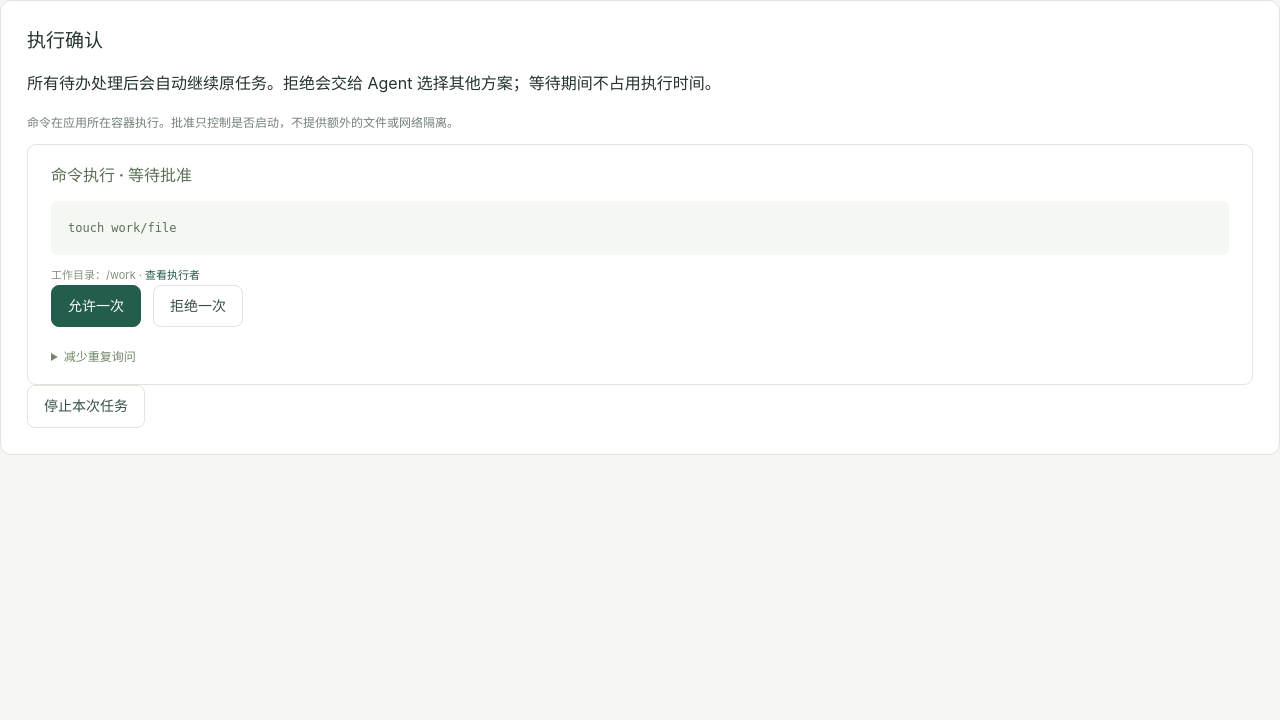
Test: shows scope and argv before saving a persistent rule, and blocks duplicate clicks while submitting
Click the heading "减少重复询问" at (100, 356), box 64,349 -> 136,364
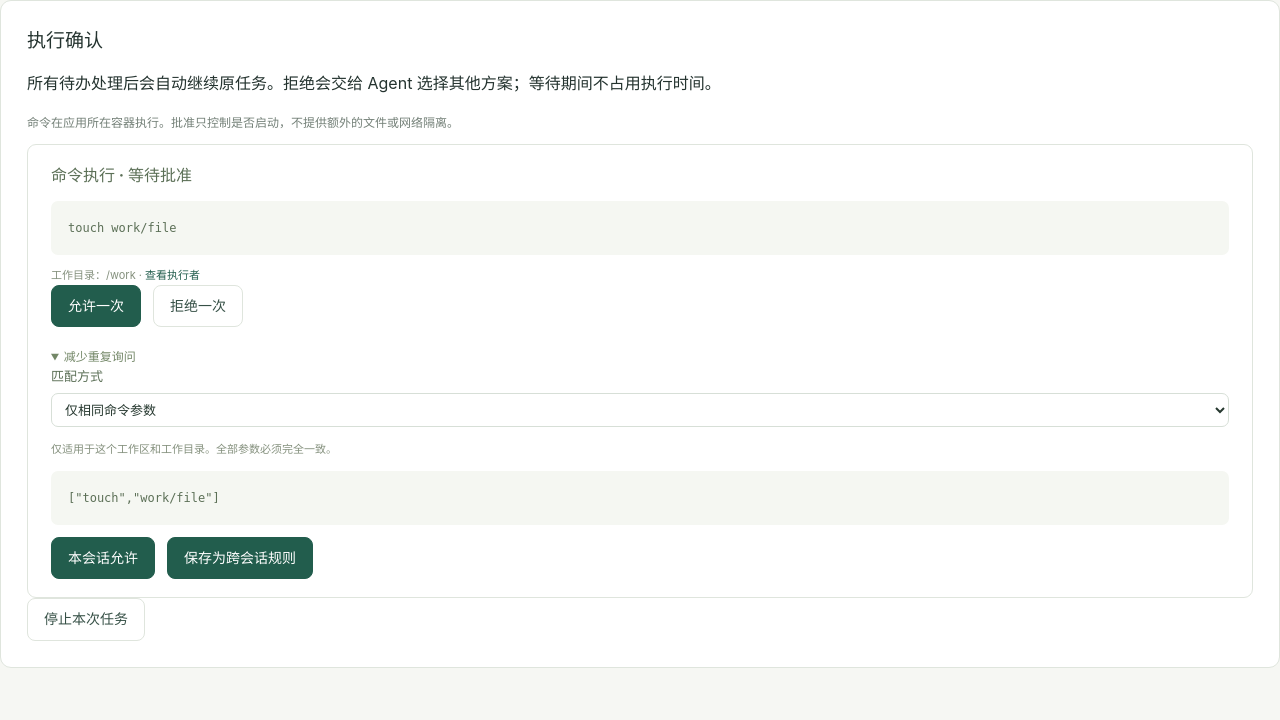
Select "允许在这些参数后追加参数" in the dropdown labelled "匹配方式" at (640, 410), box 51,393 -> 1229,427
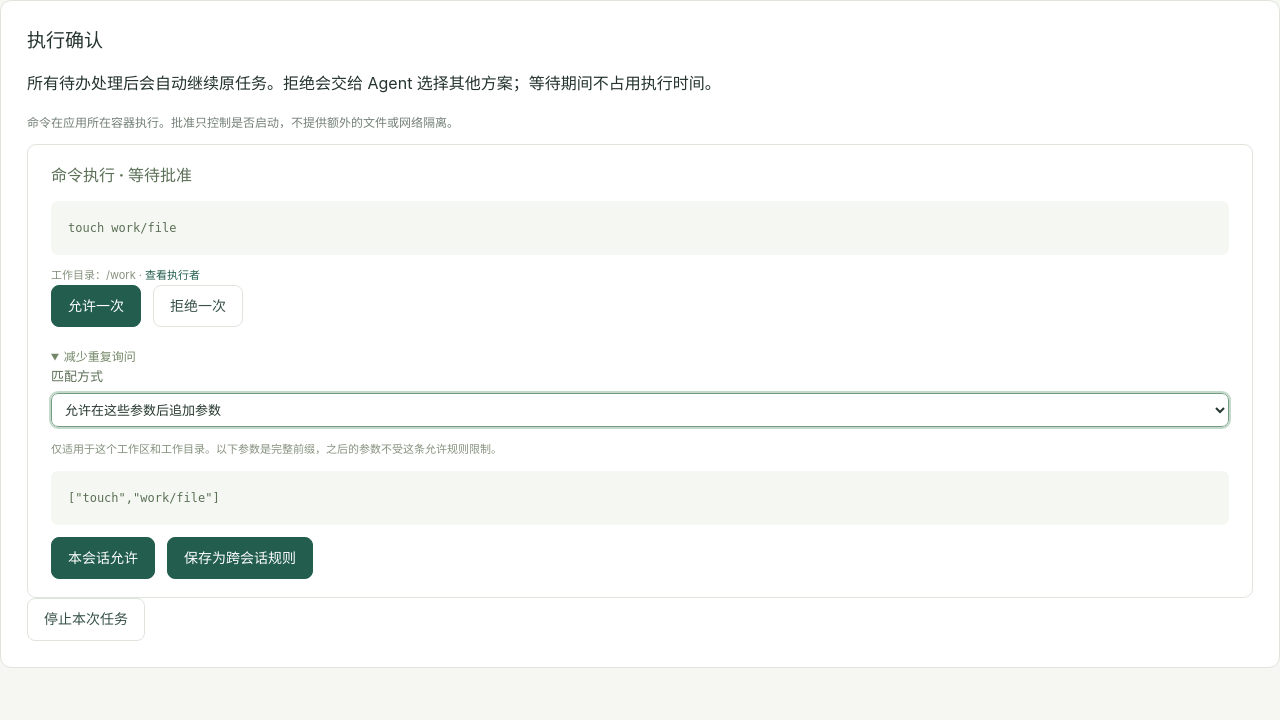
Expected: the text "仅适用于这个工作区和工作目录。以下参数是完整前缀，之后的参数不受这条允许规则限制。" is shown, 51,442 -> 502,456
Click the button "保存为跨会话规则" at (240, 558), box 167,537 -> 313,579
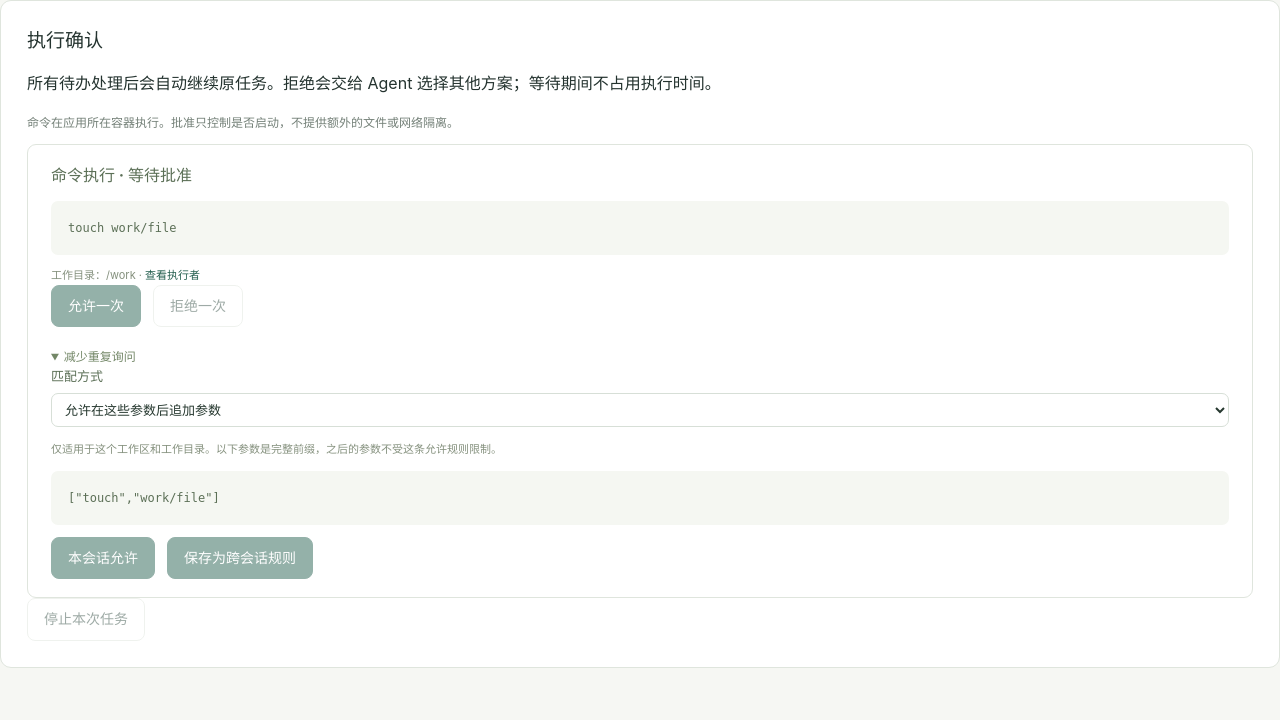
Expected: the button "保存为跨会话规则" is disabled, 167,537 -> 313,579
